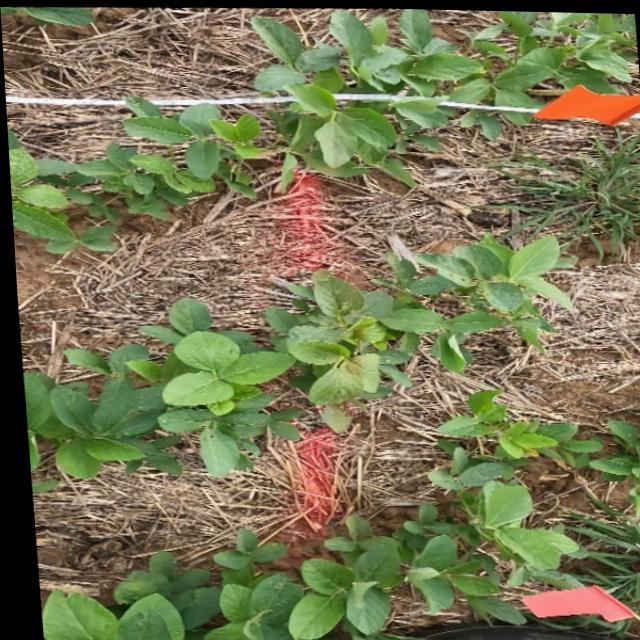grassy_weed: (492, 126, 640, 253), (551, 499, 640, 615), (537, 612, 640, 638)
soy_plant: (4, 7, 637, 252), (34, 388, 595, 640), (18, 233, 563, 477), (592, 417, 640, 512), (15, 6, 93, 24)
